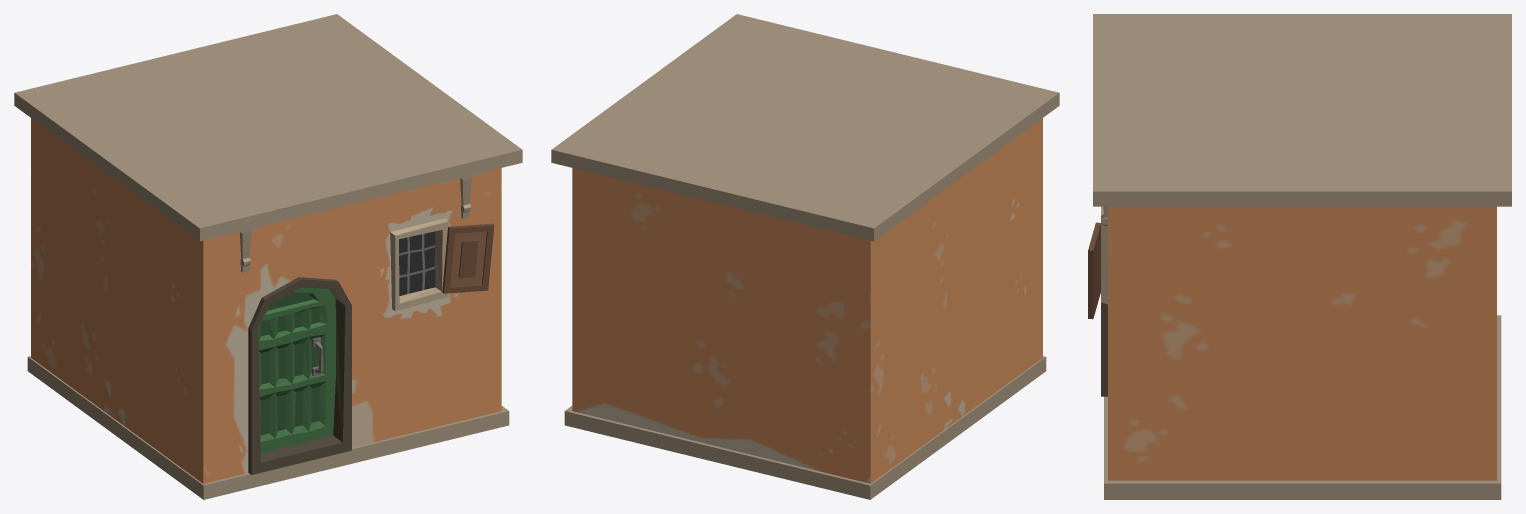
The model's file is SM_Bld_Cuba_Room_04.glb.
The picture shows the model from 3 angles, left to right: view 1: azimuth 30°, elevation 25°; view 2: azimuth 150°, elevation 25°; view 3: azimuth 270°, elevation 25°; orthographic projection. The views are drawn at different scales.
Parts seen in each view (by area): view 1: SM_Bld_Cuba_Room_04_part00; view 2: SM_Bld_Cuba_Room_04_part00; view 3: SM_Bld_Cuba_Room_04_part00.
Boxes of the visible parts, x1,y1,x2,y2 form: SM_Bld_Cuba_Room_04_part00: (14, 14, 522, 499); SM_Bld_Cuba_Room_04_part00: (551, 14, 1059, 499); SM_Bld_Cuba_Room_04_part00: (1088, 14, 1511, 499).
Bounding box in the file's own units: 4.06 × 3.33 × 4.09.
Materials: 1 (1 with a texture image).
